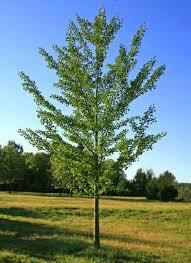tree: (15, 4, 170, 250)
